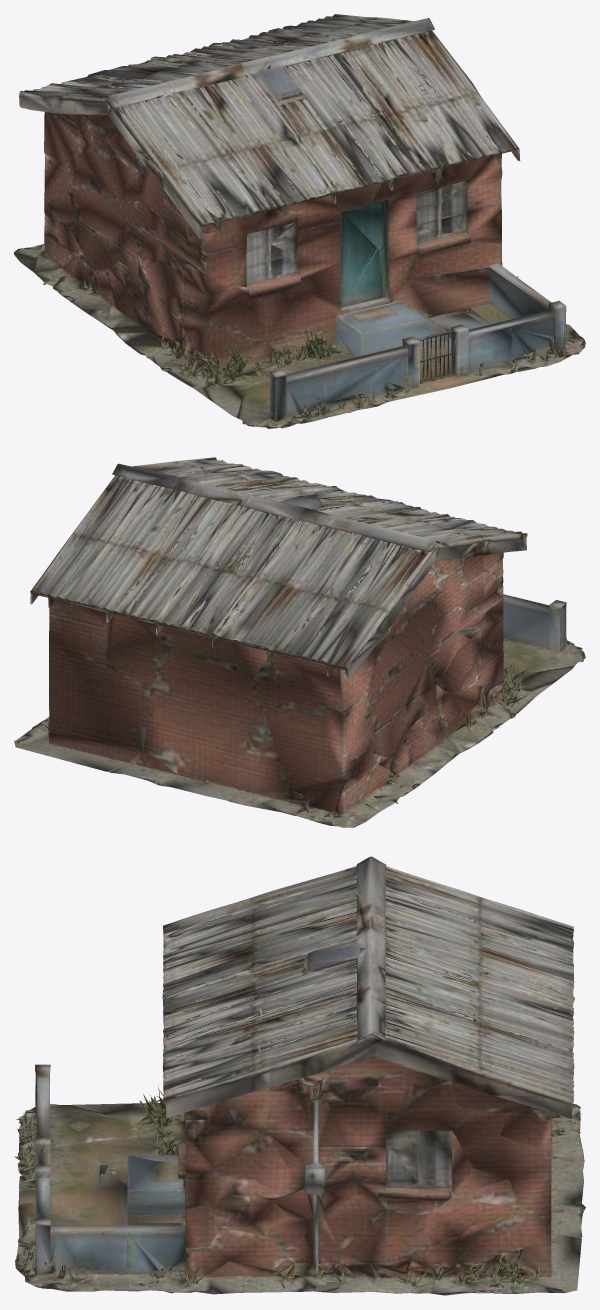
File: matchbox.glb
The picture shows the model from 3 angles, top to bottom: view 1: azimuth 30°, elevation 25°; view 2: azimuth 150°, elevation 25°; view 3: azimuth 270°, elevation 25°; orthographic projection. The views are drawn at different scales.
Bounding box in the file's own units: 1.56 × 0.9361 × 1.9.
1 material, 1 textured.
